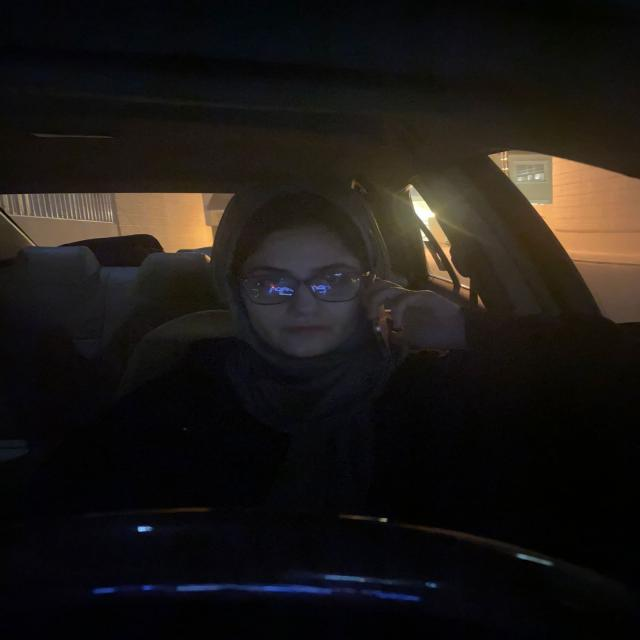mobile: (368, 275, 414, 363)
person: (226, 202, 371, 360)
